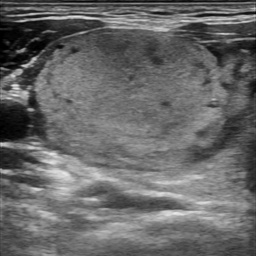mass: (36, 28, 227, 171)
